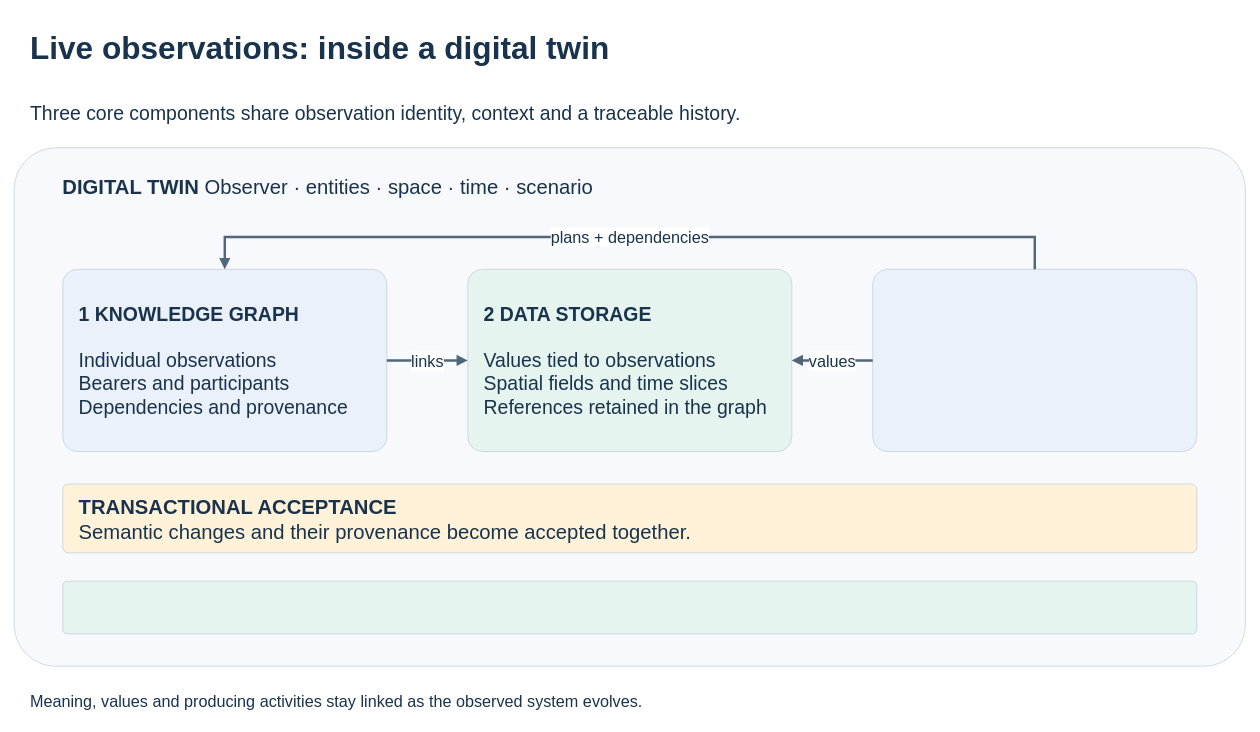
This 1260x732 diagram has some shape labels left out. Each missing label, with the box of its shape:
3 SCHEDULER Executable methods Dependency order Relevant time transitions: (872, 269, 1197, 452)
AFTER COMMIT Consequence assessment can request further observations.: (62, 580, 1197, 634)
